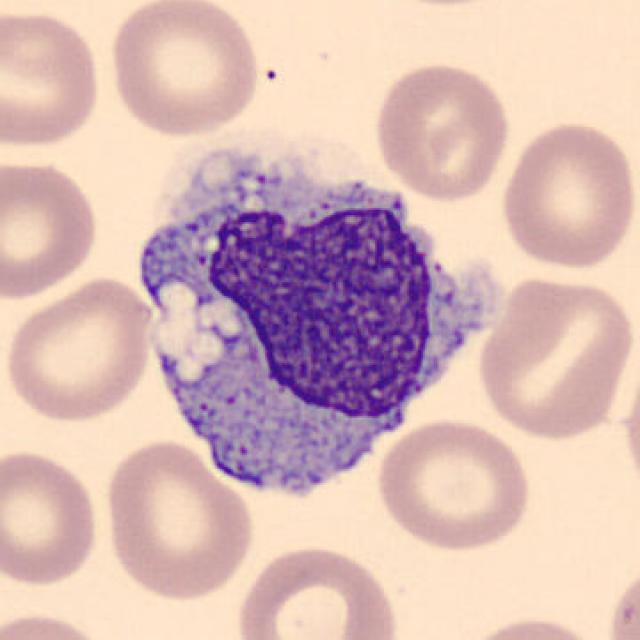Monocyte: (124, 132, 505, 517)
RBC: (473, 270, 636, 442), (100, 435, 258, 605), (2, 273, 158, 425), (372, 414, 535, 554), (496, 115, 638, 273), (103, 0, 263, 139), (370, 56, 514, 205), (231, 539, 403, 640), (0, 5, 105, 154), (0, 155, 103, 302), (0, 446, 103, 591), (454, 612, 612, 640), (0, 606, 115, 640), (617, 339, 640, 504), (602, 557, 640, 640)
